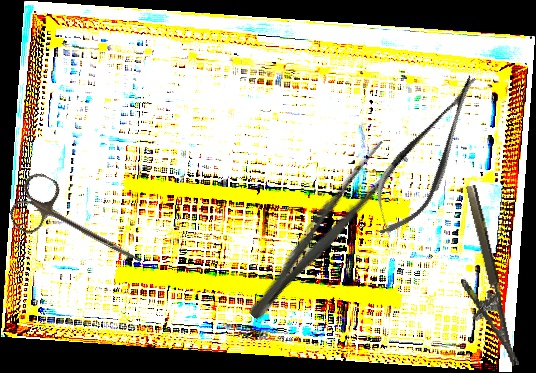Dressing Forceps: (239, 136, 406, 330)
Iris Scissors: (4, 168, 157, 286)
Micro Scissor: (355, 63, 500, 248)
Needle Holder: (440, 184, 520, 373)
